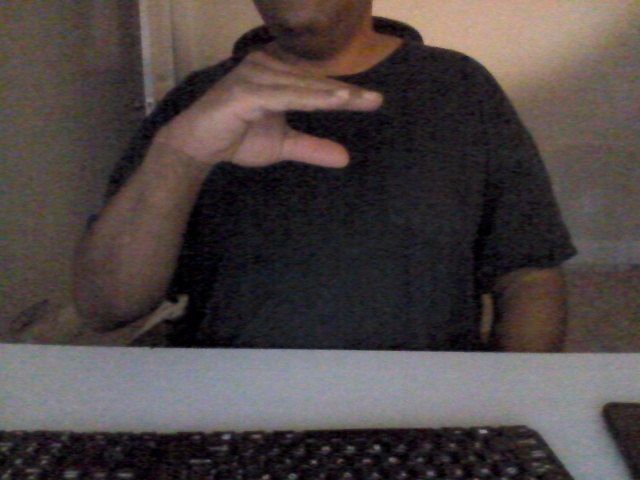no: (168, 47, 389, 174)
